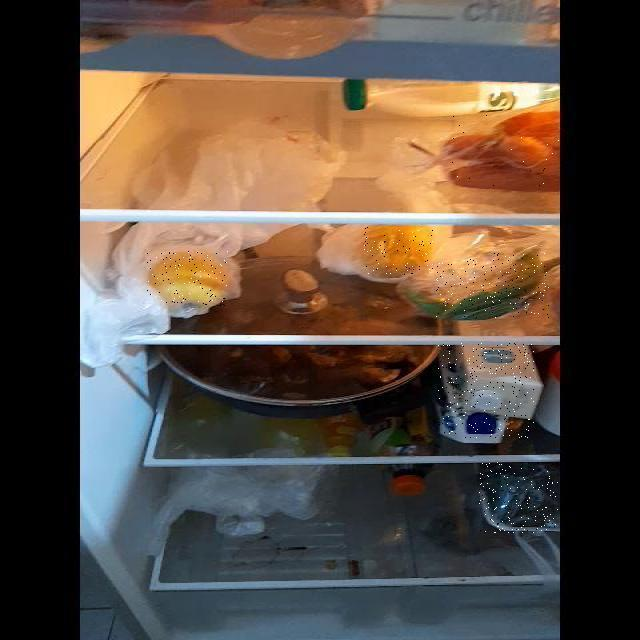Brocoli: (479, 462, 559, 533)
Limón: (147, 251, 228, 306), (364, 226, 433, 275)
Zanahoria: (440, 115, 559, 188)
green chilies: (436, 253, 549, 318)
milk: (439, 343, 535, 438)
